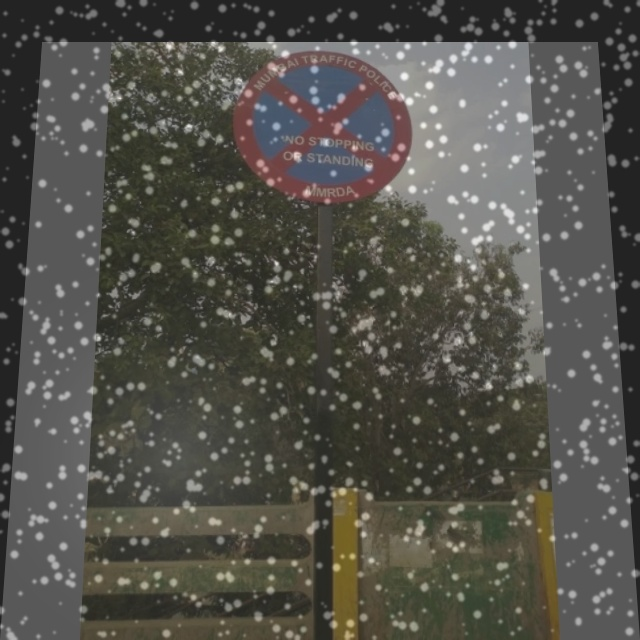No_Stopping_or_Standing: (232, 47, 421, 213)
